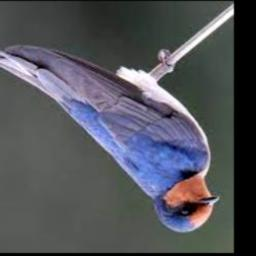Swallow: (0, 43, 218, 232)
